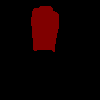gonna: (30, 5, 58, 52)
